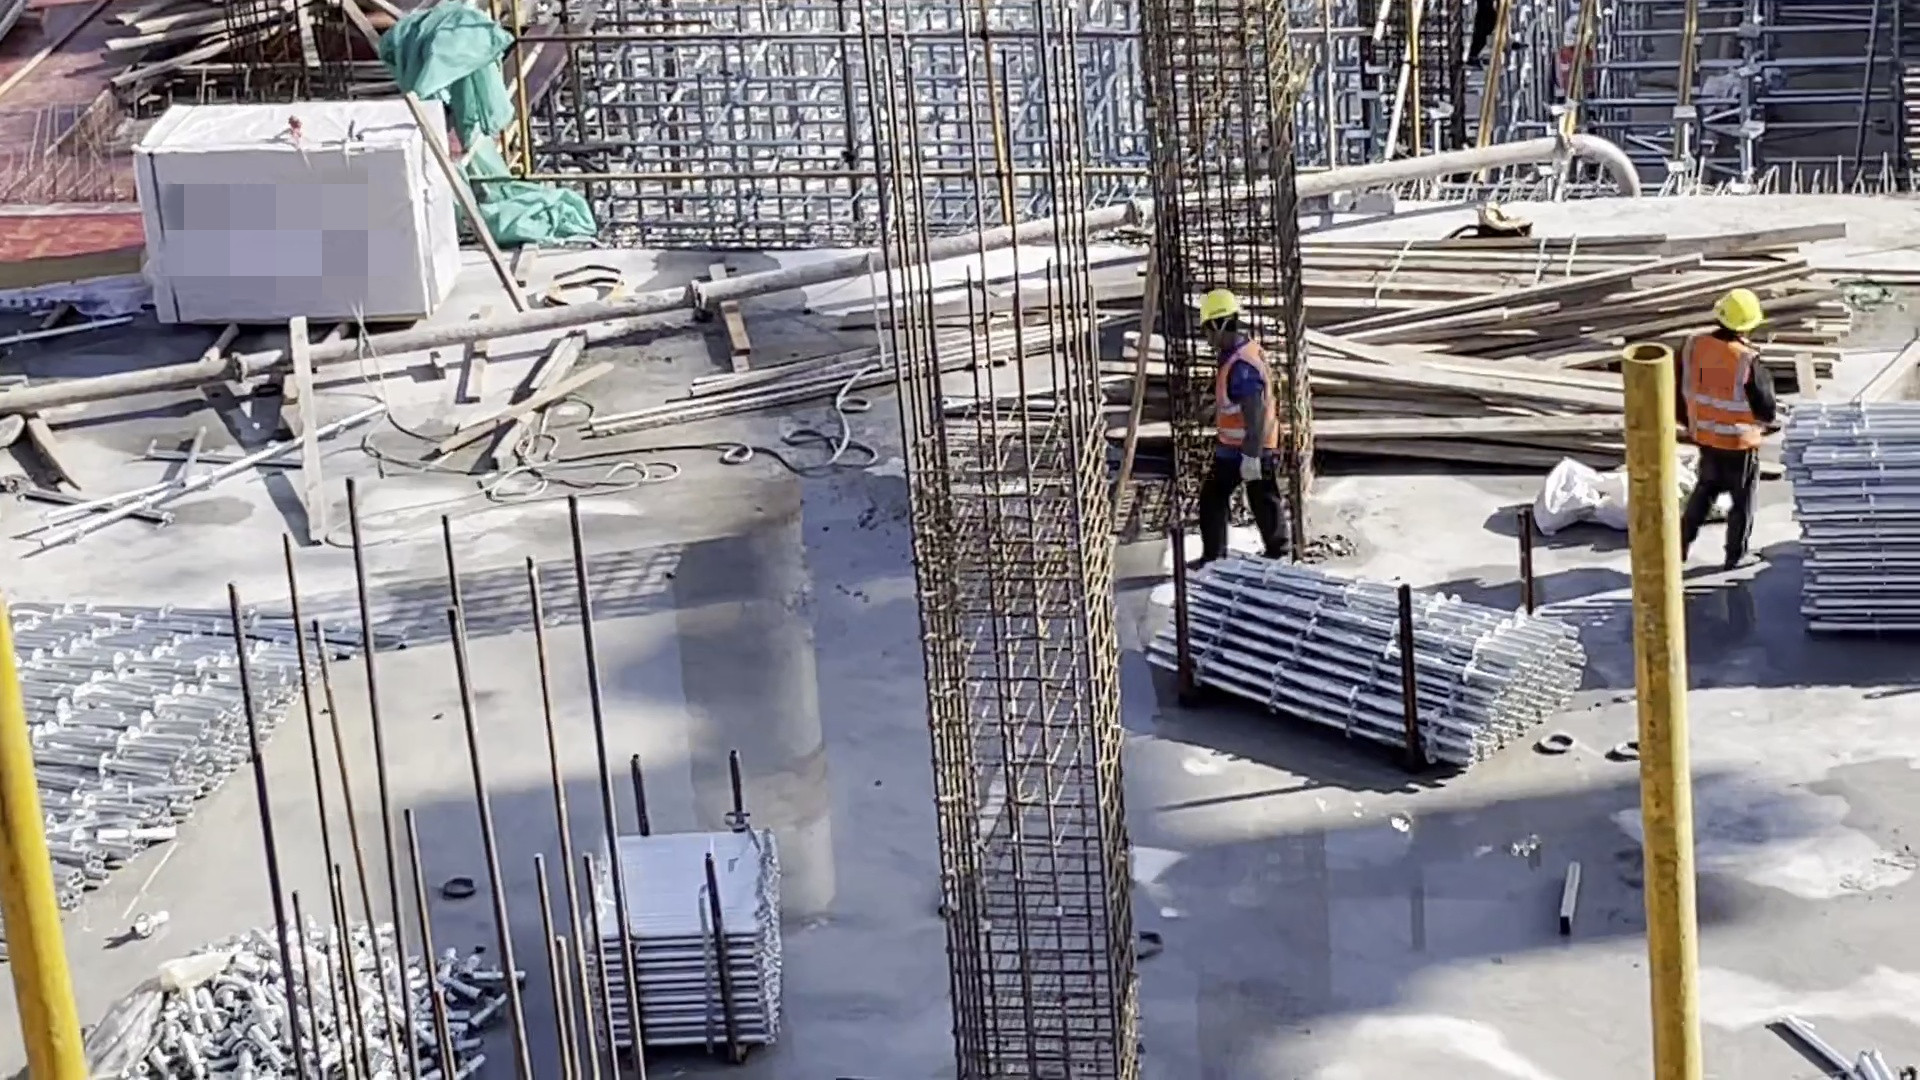helmet: (1716, 288, 1767, 334), (1199, 288, 1242, 321)
person: (1670, 285, 1767, 574), (1195, 283, 1283, 571)
scaffold: (1, 599, 350, 885), (1148, 547, 1590, 773), (137, 900, 523, 1080), (585, 826, 791, 1043), (1782, 405, 1920, 639)
vest: (1205, 343, 1283, 479), (1682, 328, 1763, 454)
wood: (1298, 218, 1673, 479)
